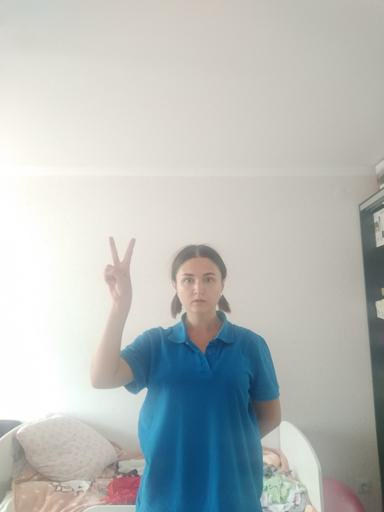peace: (102, 234, 140, 304)
